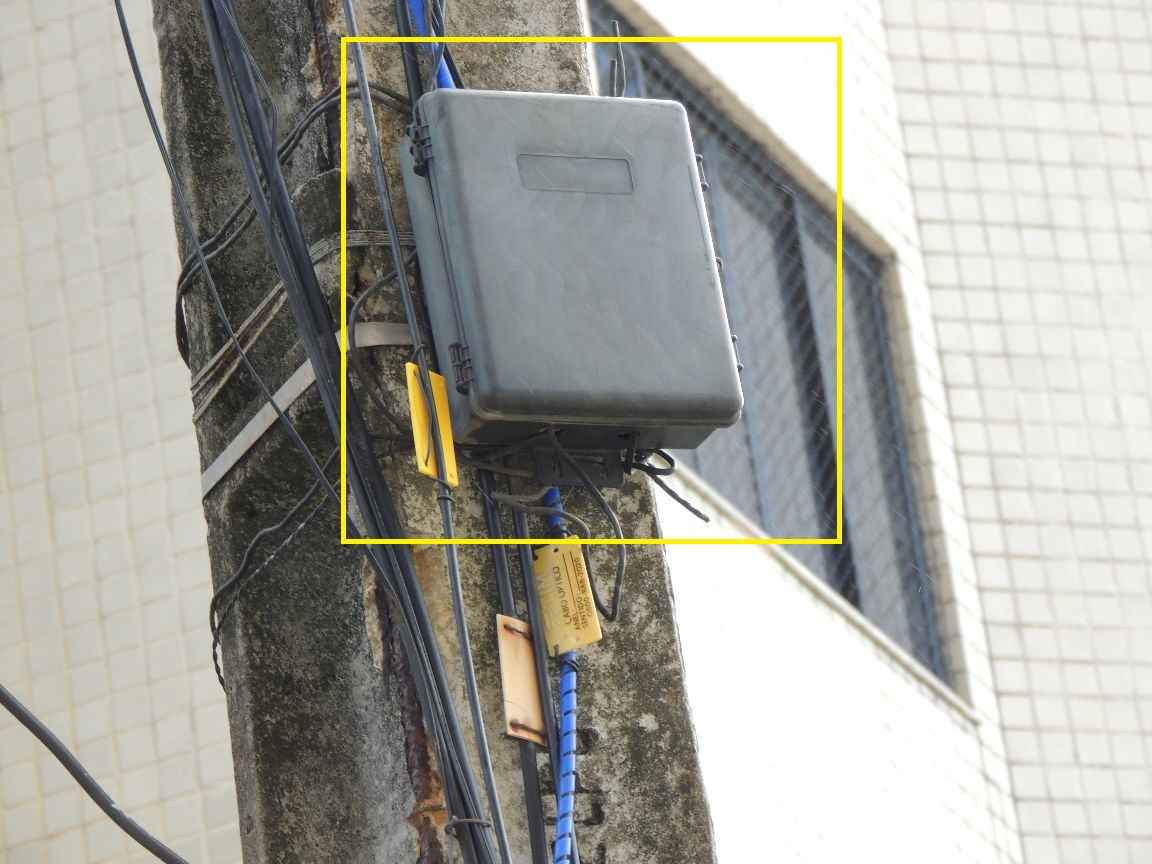caixa_derivacao: (401, 90, 765, 453)
